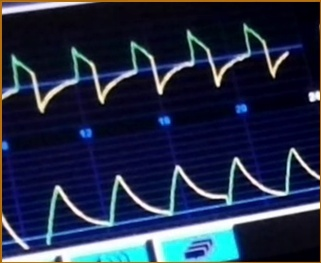Normal Flow: (3, 21, 292, 114)
Normal Volume: (1, 147, 321, 247)
